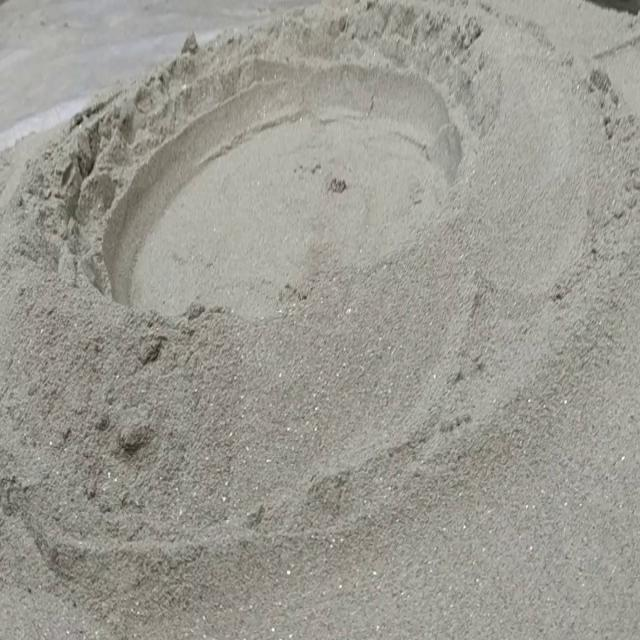C40: (101, 16, 474, 315)
